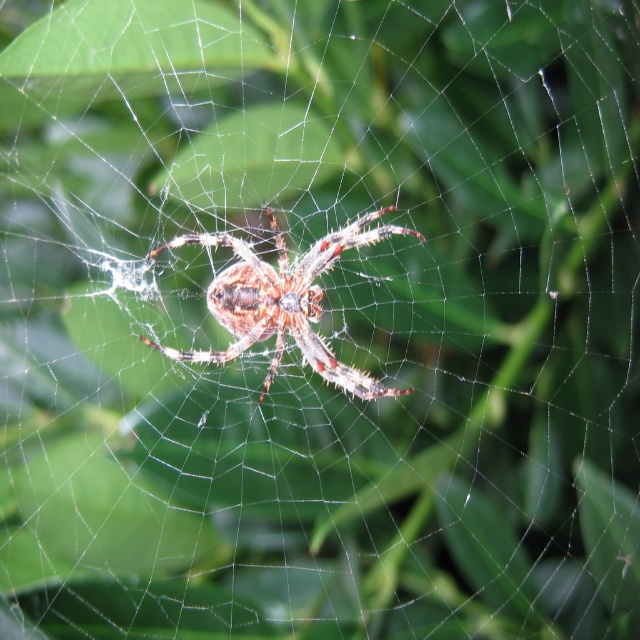Spider: (139, 203, 427, 407)
